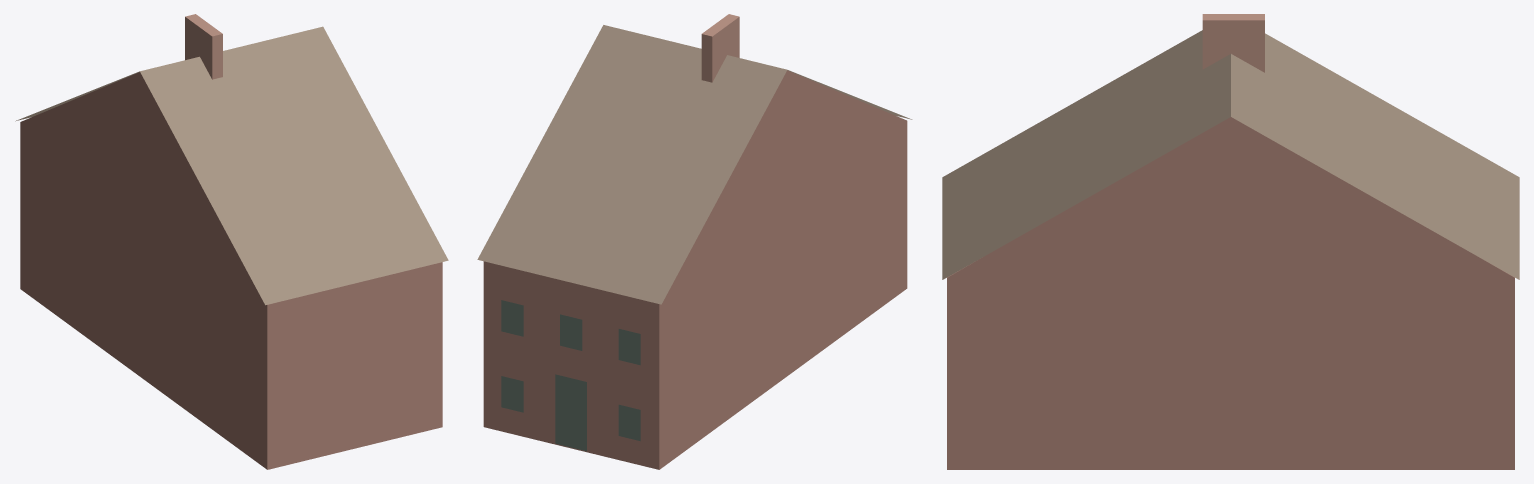
The model's file is recon_1835_south_c3_040__recommended_1835.glb.
The picture shows the model from 3 angles, left to right: view 1: azimuth 30°, elevation 25°; view 2: azimuth 150°, elevation 25°; view 3: azimuth 270°, elevation 25°; orthographic projection. The views are drawn at different scales.
Visible parts, largest first — view 1: recon_1835_south_c3_040__recommended_1835; view 2: recon_1835_south_c3_040__recommended_1835; view 3: recon_1835_south_c3_040__recommended_1835.
Boxes of the visible parts, box(x1,y1,x2,y2) form: recon_1835_south_c3_040__recommended_1835: box(15, 14, 448, 469); recon_1835_south_c3_040__recommended_1835: box(477, 14, 912, 469); recon_1835_south_c3_040__recommended_1835: box(942, 14, 1519, 469).
Size of the model in its own units: 6.14 by 10.83 by 14.57.
